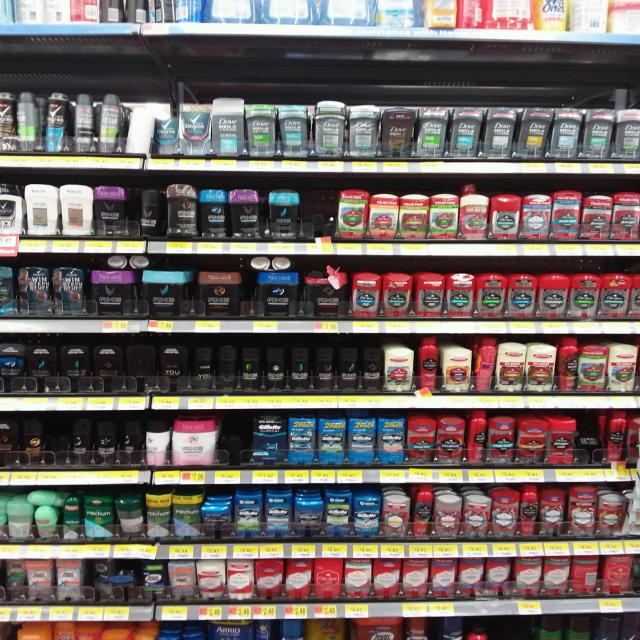unorganised: (126, 101, 155, 157), (137, 189, 168, 241), (29, 490, 66, 533), (555, 332, 581, 393), (571, 555, 603, 599), (472, 337, 496, 393), (85, 559, 117, 601), (114, 496, 146, 536), (576, 421, 603, 466), (466, 412, 486, 468), (487, 557, 514, 596), (1, 561, 27, 597), (201, 506, 232, 536), (155, 111, 177, 153)
